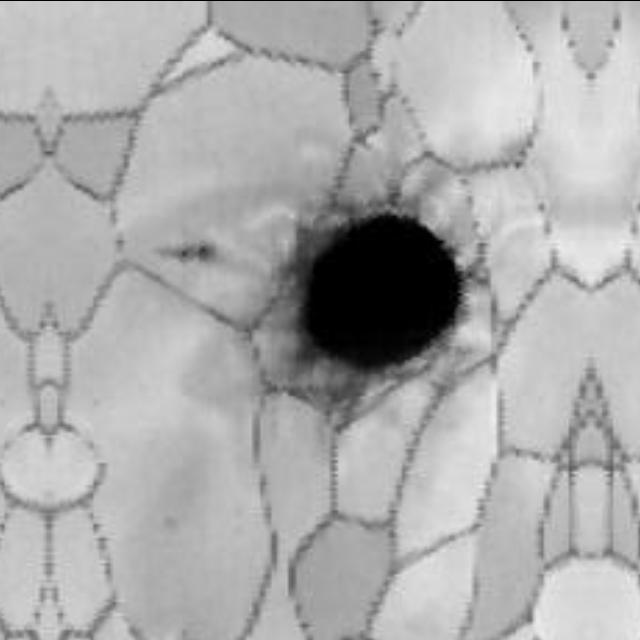good_void: (271, 183, 486, 411), (175, 242, 208, 263)
